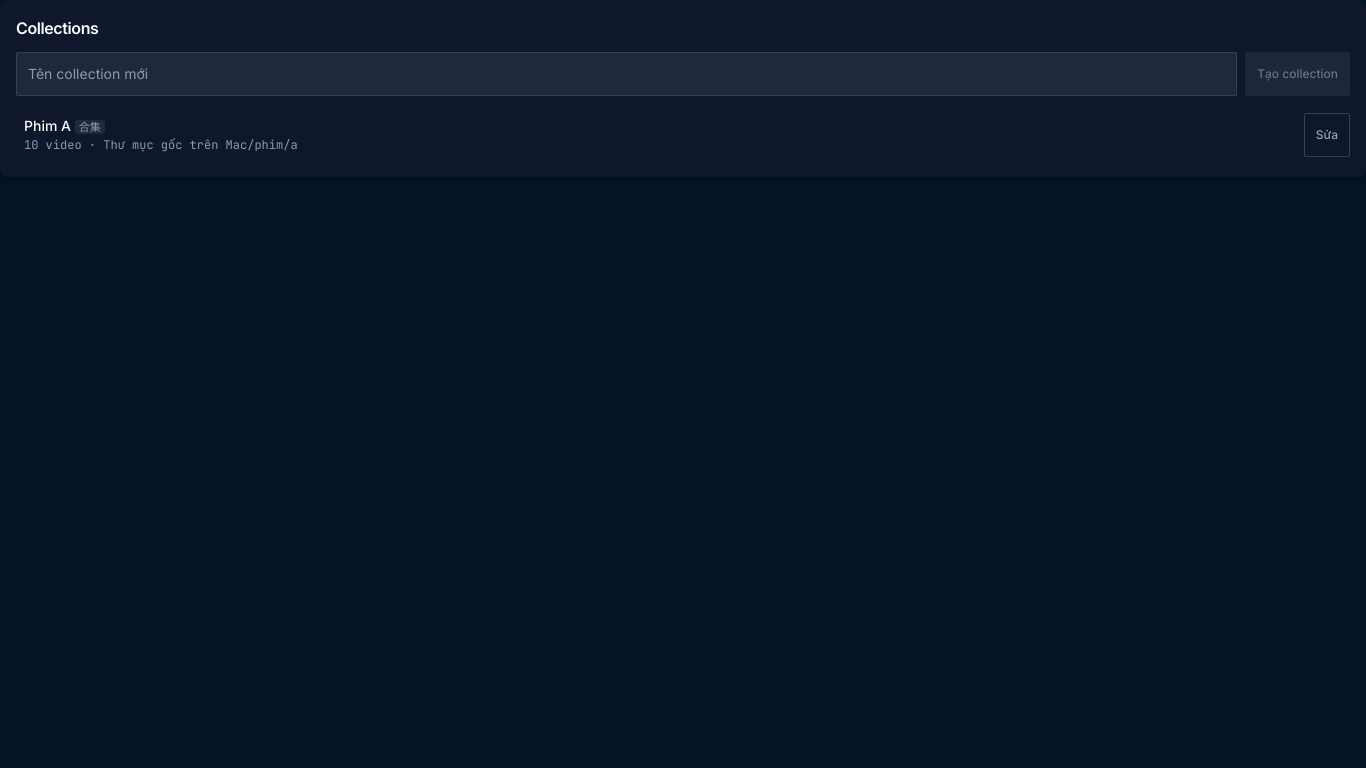
it: CollectionsPanel settings › says so when no video of the collection has a review project to preview
Click the button with aria-label "Sửa Phim A" at (1327, 134), box [1304,112,1350,156]
(page scrolled)
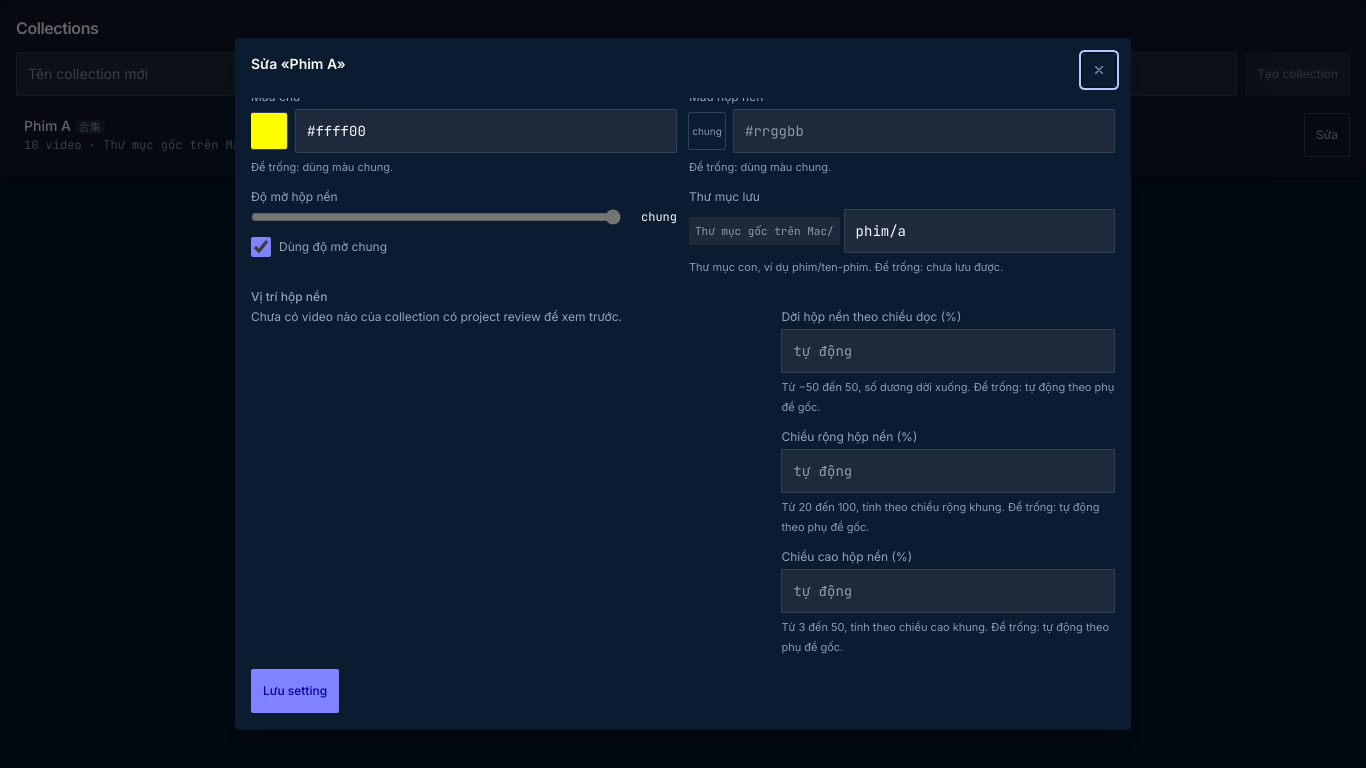
Expected: the text with test id "cover-preview-missing" reads "Chưa có video nào của collection có project review để xem trước.", [251,309,622,324]
Expected: the number field labelled "Chiều cao hộp nền (%)" is shown, [781,569,1115,613]
